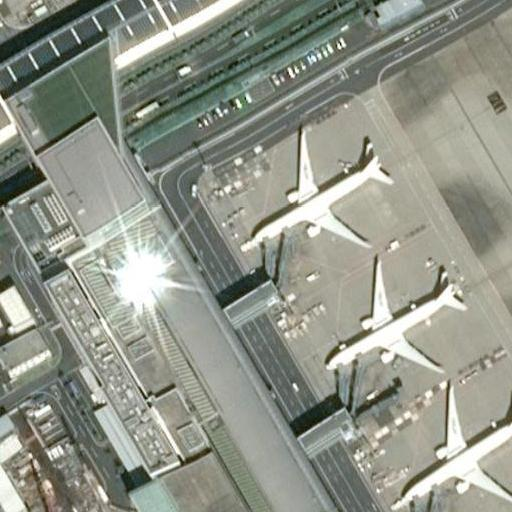Aircraft: (239, 128, 400, 244), (316, 257, 464, 374), (381, 393, 512, 507)
